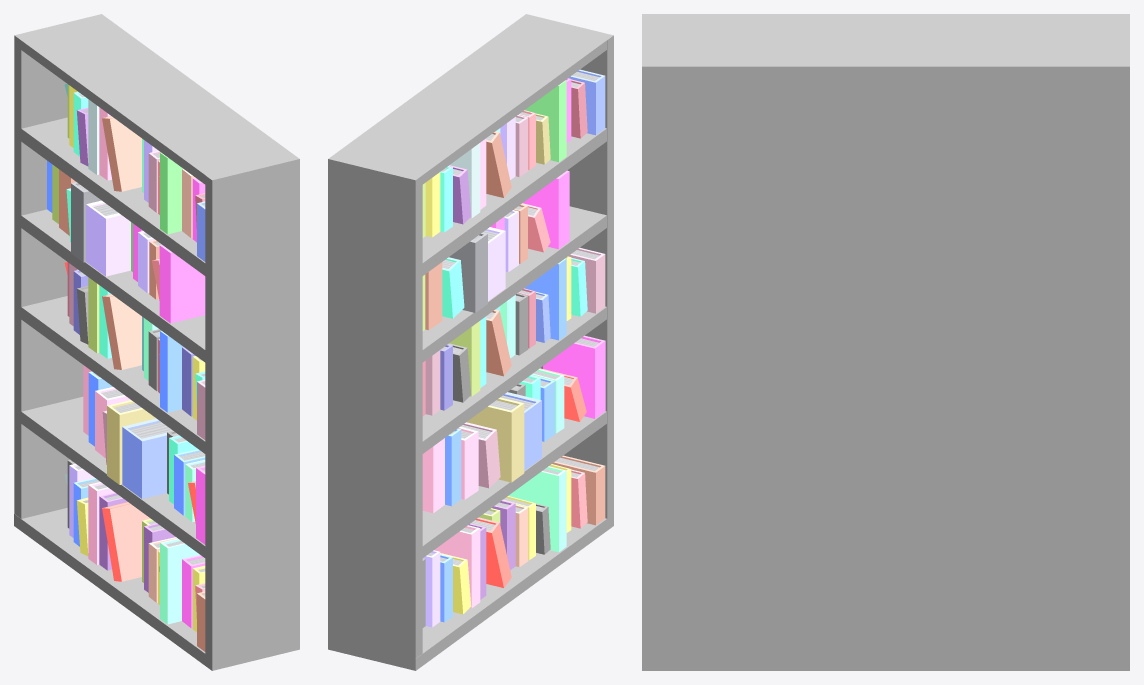
Rendered from wardrobeWITHbooks.fbx.
The picture shows the model from 3 angles, left to right: view 1: azimuth 30°, elevation 25°; view 2: azimuth 150°, elevation 25°; view 3: azimuth 270°, elevation 25°; orthographic projection. The views are drawn at different scales.
Parts seen in each view (by area): view 1: Plane; view 2: Plane; view 3: Plane.
Part boxes in pixels (box(x1,y1,x2,y2)): Plane: box(14, 14, 299, 670); Plane: box(328, 14, 613, 670); Plane: box(642, 14, 1129, 670).
Size of the model in its own units: 105 by 553 by 405.
